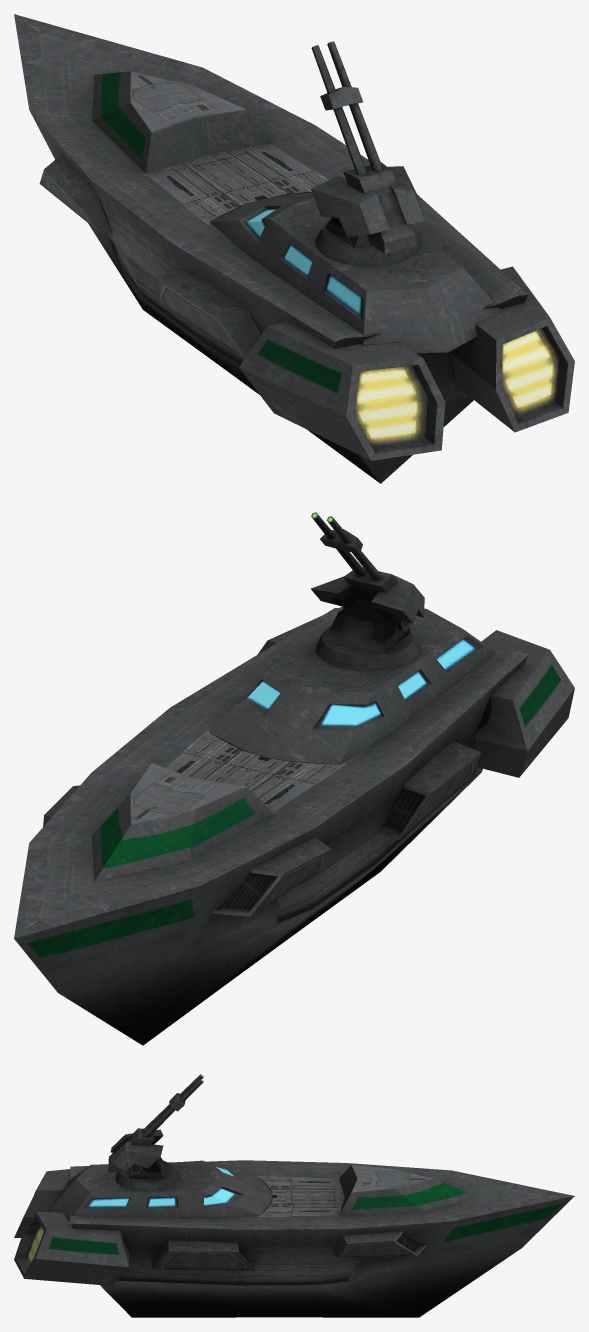
Rendered from navy_corvette.glb.
The picture shows the model from 3 angles, top to bottom: view 1: azimuth 30°, elevation 25°; view 2: azimuth 150°, elevation 25°; view 3: azimuth 270°, elevation 25°; orthographic projection. The views are drawn at different scales.
Visible parts, largest first — view 1: detail0, turret01-arms, turret01-base; view 2: detail0, turret01-arms, turret01-base; view 3: detail0, turret01-arms, turret01-base.
Boxes of the visible parts, x1,y1,x2,y2 form: detail0: (14,14,574,483); turret01-arms: (311,41,424,253); turret01-base: (315,217,420,266); detail0: (14,606,574,1045); turret01-arms: (311,512,424,630); turret01-base: (315,606,420,670); detail0: (14,1160,574,1317); turret01-arms: (108,1074,203,1174); turret01-base: (115,1157,178,1191).
Bounding box in the file's own units: 3.57 × 4.71 × 9.94.
Materials: 1 (1 with a texture image).
